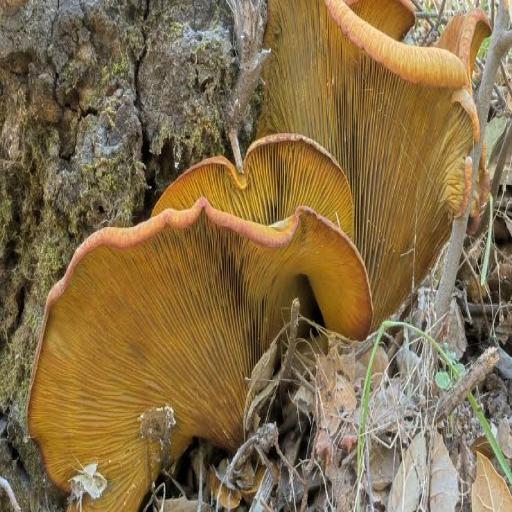Jack O Lantern Mushroom: (25, 201, 377, 512), (250, 0, 507, 319), (137, 135, 364, 244)
